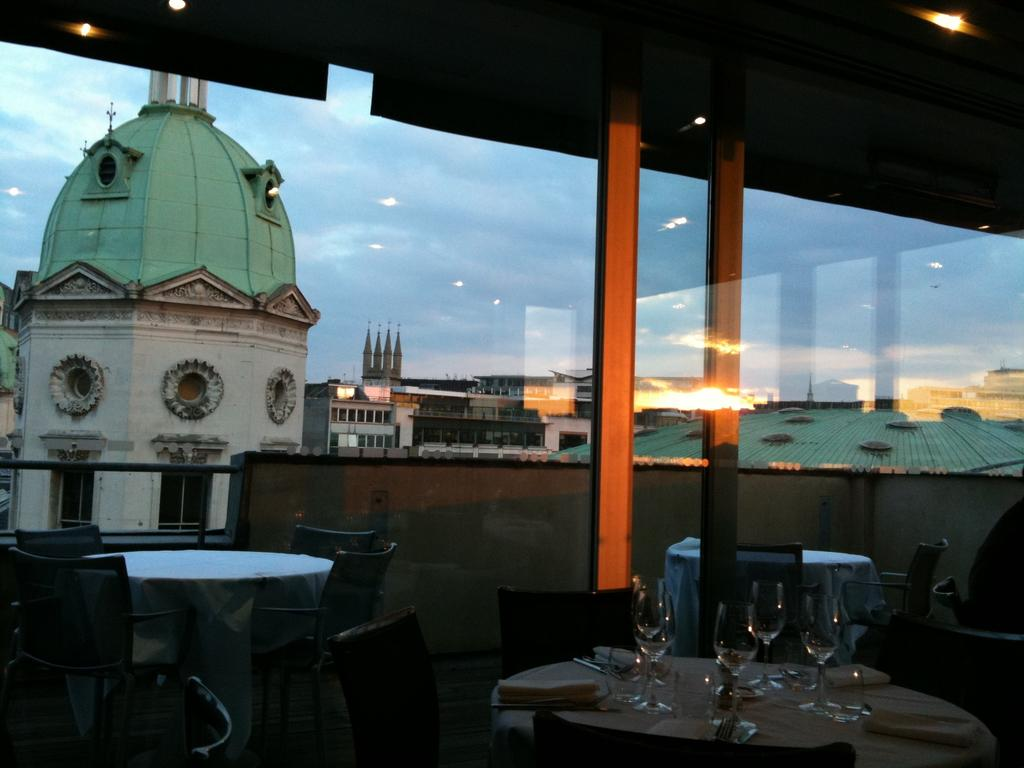Chair: (252, 540, 397, 758), (14, 523, 104, 557)
